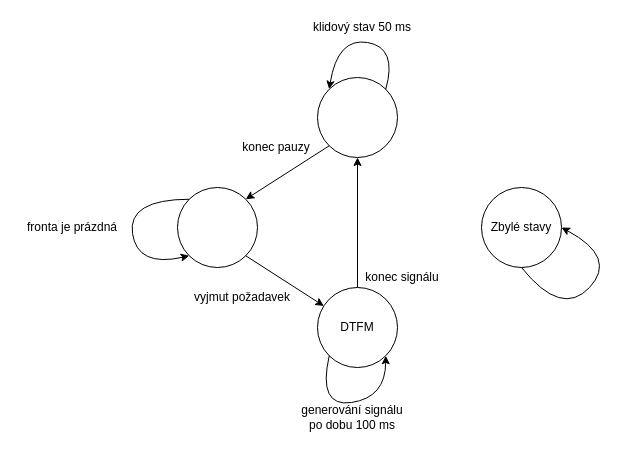
Some shapes in this 617 by 449 pixel diagram are drawn without their labels. Each missing label, with the box of its shape:
FREE: (176, 186, 258, 268)
PAUSE: (316, 76, 398, 158)
